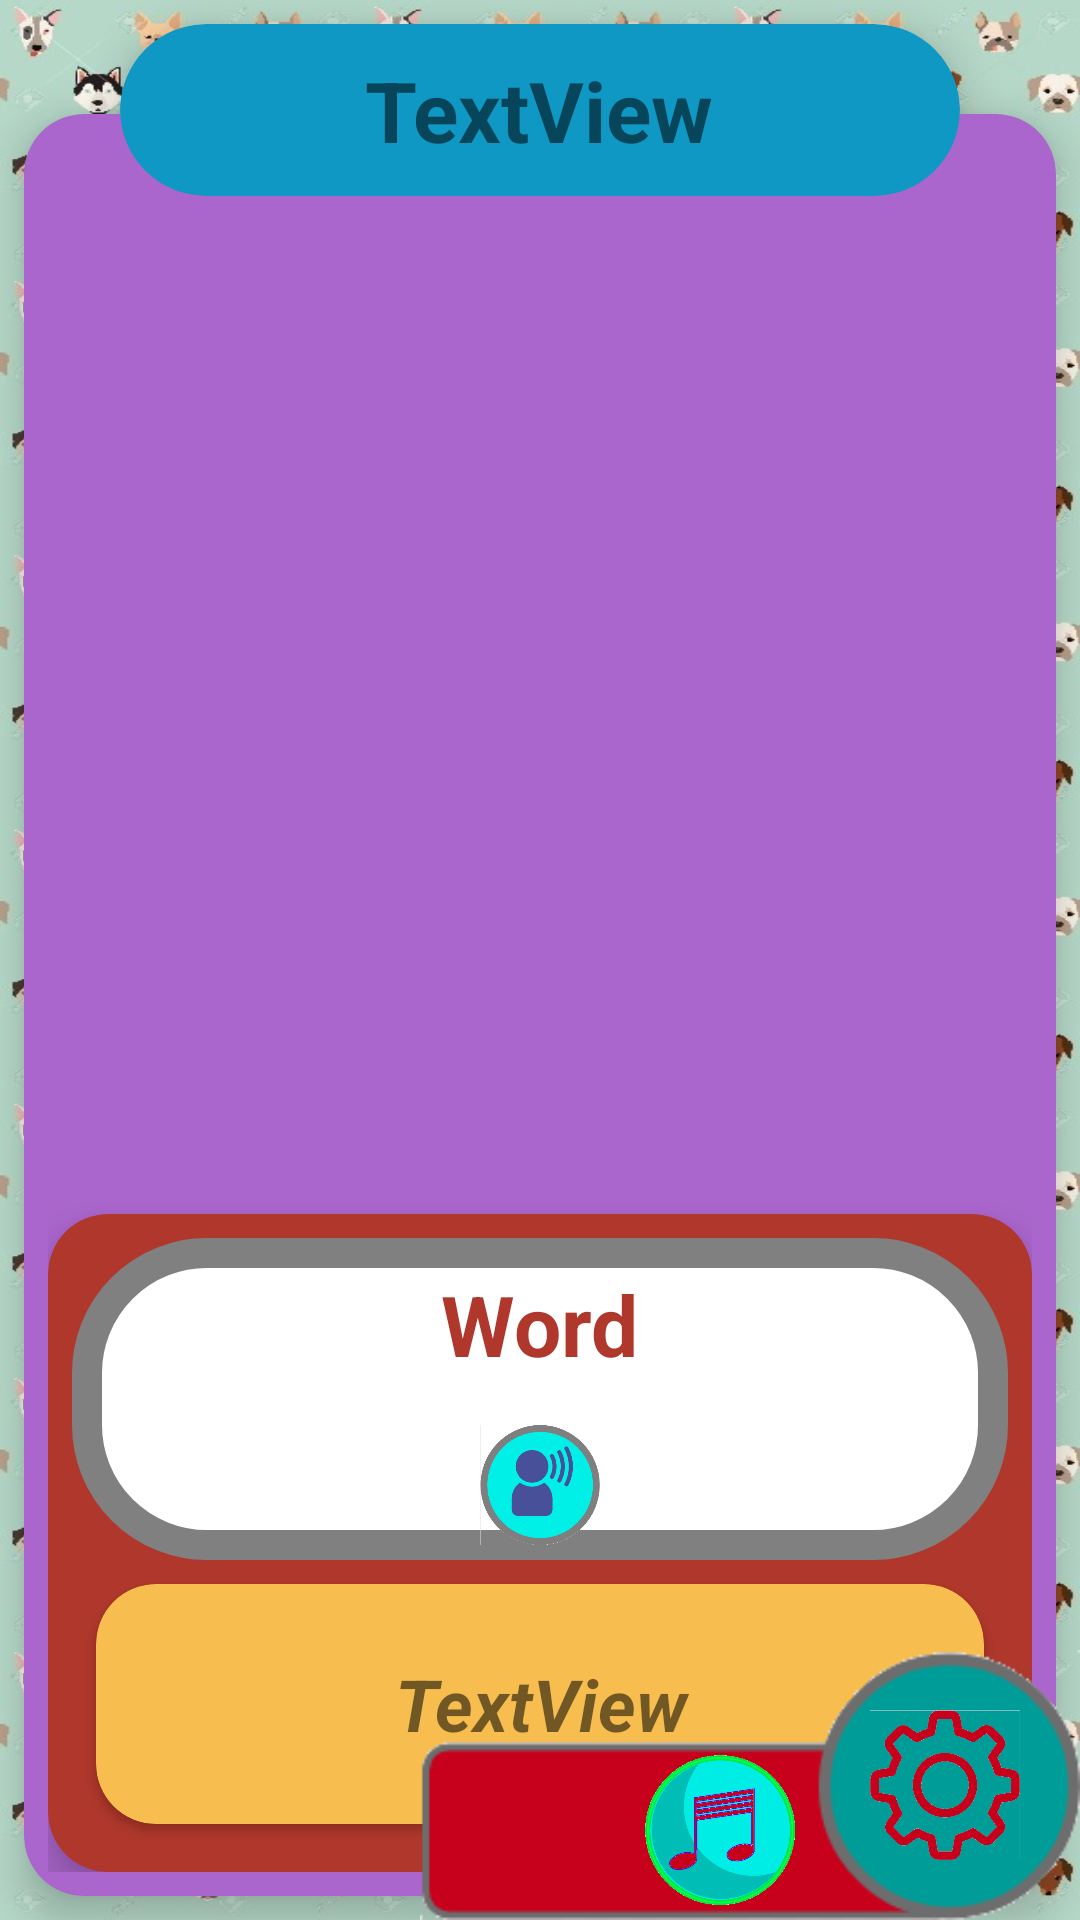

Named icons in this screenshot (1080px x 1920px) and their centers, (x,y):
music on: (720,1830)
play sound: (540,1485)
setting: (945,1785)
